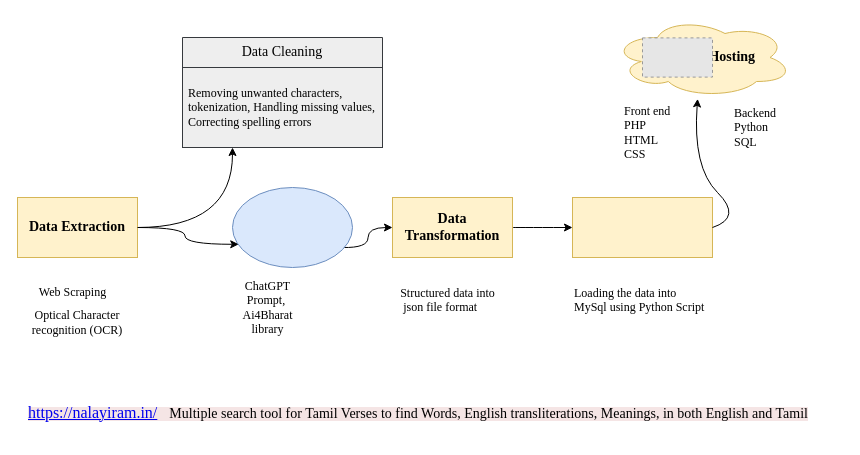
This 860x455 diagram has some shape labels left out. Grey dashed boxes stand in for pictures. The shapes that lost their labels are listed below. From the top down, each one's centre as x and y in pixels, then its label:
[292,227]: Transliteration
[642,227]: Data Loading
